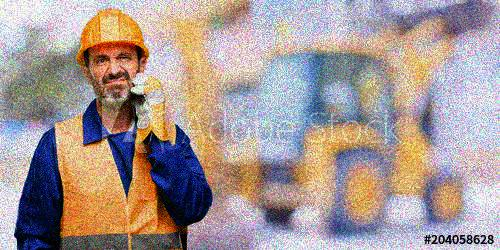helmet: (75, 8, 151, 106)
